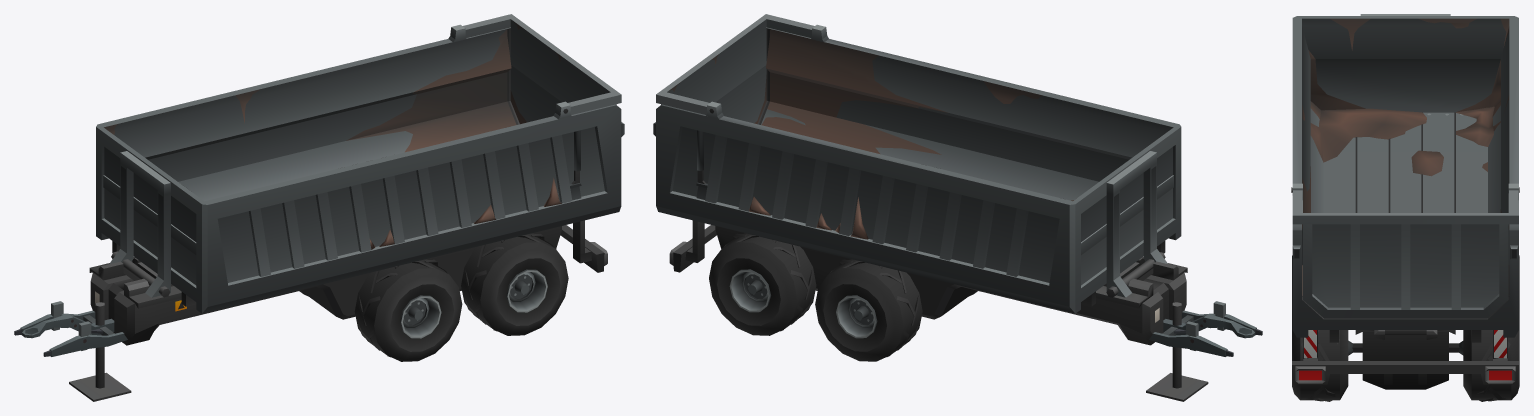
The model's file is tfp_dump_trailer_01a.glb.
3 renders of one model, left to right at view 1: azimuth 30°, elevation 25°; view 2: azimuth 150°, elevation 25°; view 3: azimuth 270°, elevation 25°, orthographic. The views are drawn at different scales.
Parts seen in each view (by area): view 1: TFP_Dump_Trailer_01A_Container_Mesh, TFP_Dump_Trailer_01A, TFP_Dump_Trailer_01A_Wheel_R.L_Mesh, TFP_Dump_Trailer_01A_Wheel_F.L_Mesh, TFP_Dump_Trailer_01A_Tailgate_Mesh, TFP_Dump_Trailer_01A_Supporting_Leg; view 2: TFP_Dump_Trailer_01A_Container_Mesh, TFP_Dump_Trailer_01A, TFP_Dump_Trailer_01A_Wheel_F.R_Mesh, TFP_Dump_Trailer_01A_Wheel_R.R_Mesh, TFP_Dump_Trailer_01A_Tailgate_Mesh, TFP_Dump_Trailer_01A_Supporting_Leg; view 3: TFP_Dump_Trailer_01A_Container_Mesh, TFP_Dump_Trailer_01A_Tailgate_Mesh, TFP_Dump_Trailer_01A, TFP_Dump_Trailer_01A_Wheel_R.R_Mesh, TFP_Dump_Trailer_01A_Wheel_R.L_Mesh.
Boxes of the visible parts, x1,y1,x2,y2 form: TFP_Dump_Trailer_01A_Container_Mesh: (96,24,624,313); TFP_Dump_Trailer_01A: (14,220,607,356); TFP_Dump_Trailer_01A_Wheel_R.L_Mesh: (461,233,568,335); TFP_Dump_Trailer_01A_Wheel_F.L_Mesh: (354,259,462,361); TFP_Dump_Trailer_01A_Tailgate_Mesh: (463,14,621,123); TFP_Dump_Trailer_01A_Supporting_Leg: (69,302,131,401); TFP_Dump_Trailer_01A_Container_Mesh: (653,24,1181,313); TFP_Dump_Trailer_01A: (669,220,1262,356); TFP_Dump_Trailer_01A_Wheel_F.R_Mesh: (815,259,922,361); TFP_Dump_Trailer_01A_Wheel_R.R_Mesh: (709,233,816,335); TFP_Dump_Trailer_01A_Tailgate_Mesh: (656,14,814,123); TFP_Dump_Trailer_01A_Supporting_Leg: (1146,302,1208,401); TFP_Dump_Trailer_01A_Container_Mesh: (1292,14,1518,342); TFP_Dump_Trailer_01A_Tailgate_Mesh: (1291,187,1519,318); TFP_Dump_Trailer_01A: (1292,330,1518,389); TFP_Dump_Trailer_01A_Wheel_R.R_Mesh: (1463,308,1519,401); TFP_Dump_Trailer_01A_Wheel_R.L_Mesh: (1292,308,1348,401).
Size of the model in its own units: 7.55 by 2.95 by 2.66.
Materials: 1 (1 with a texture image).
